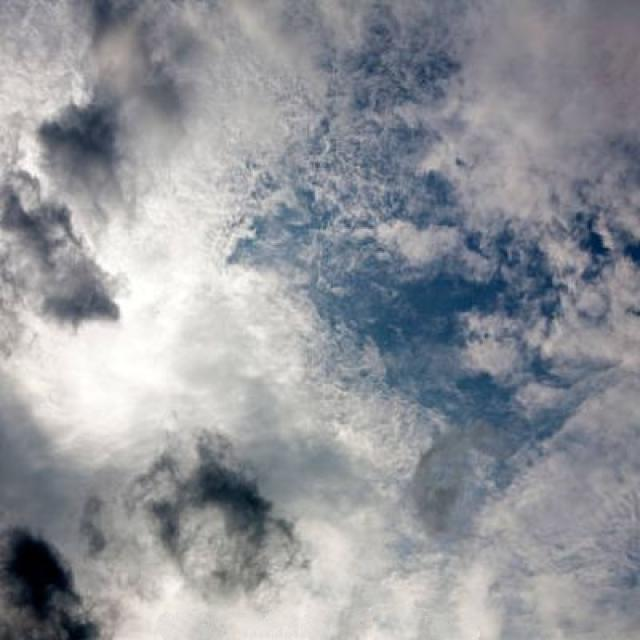Ns: (14, 54, 621, 553)
